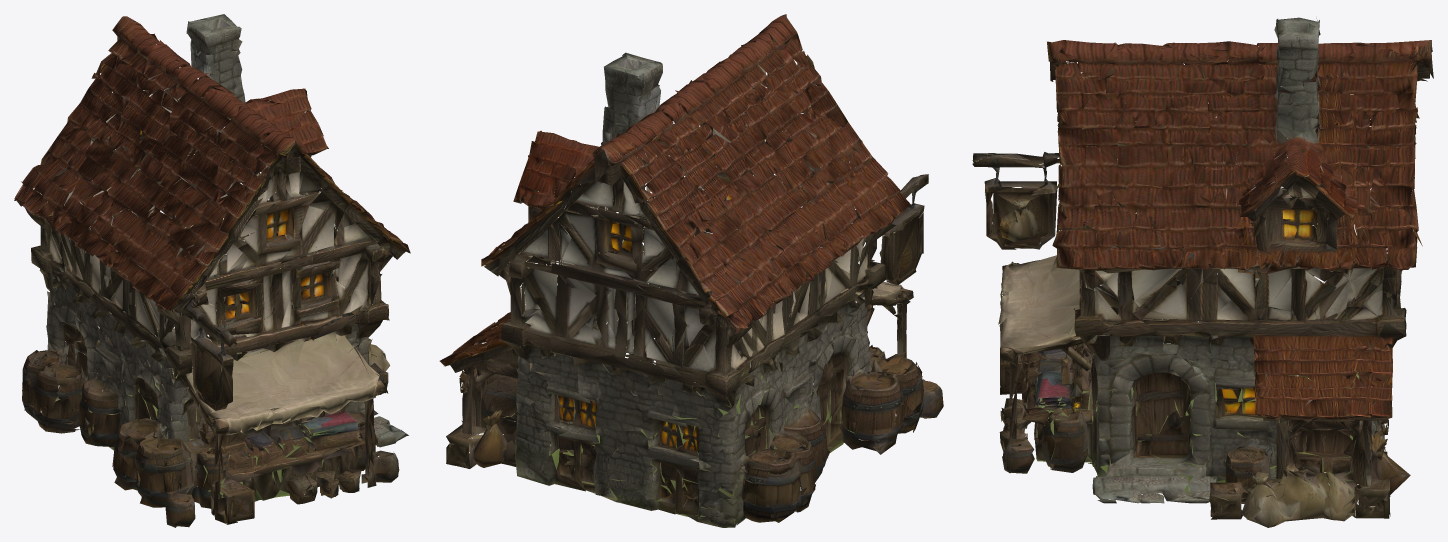
The model's file is Timbered_Market_House_town.glb.
3 views of the same model, side by side, from view 1: azimuth 30°, elevation 25°; view 2: azimuth 150°, elevation 25°; view 3: azimuth 270°, elevation 25° (orthographic). The views are drawn at different scales.
Parts seen in each view (by area): view 1: Timbered_Market_House; view 2: Timbered_Market_House; view 3: Timbered_Market_House.
Part boxes in pixels (x1,y1,x2,y2): Timbered_Market_House: (14, 14, 410, 527); Timbered_Market_House: (439, 14, 943, 527); Timbered_Market_House: (972, 17, 1433, 527).
Size of the model in its own units: 1.77 by 1.92 by 1.9.
Materials: 1 (1 with a texture image).
